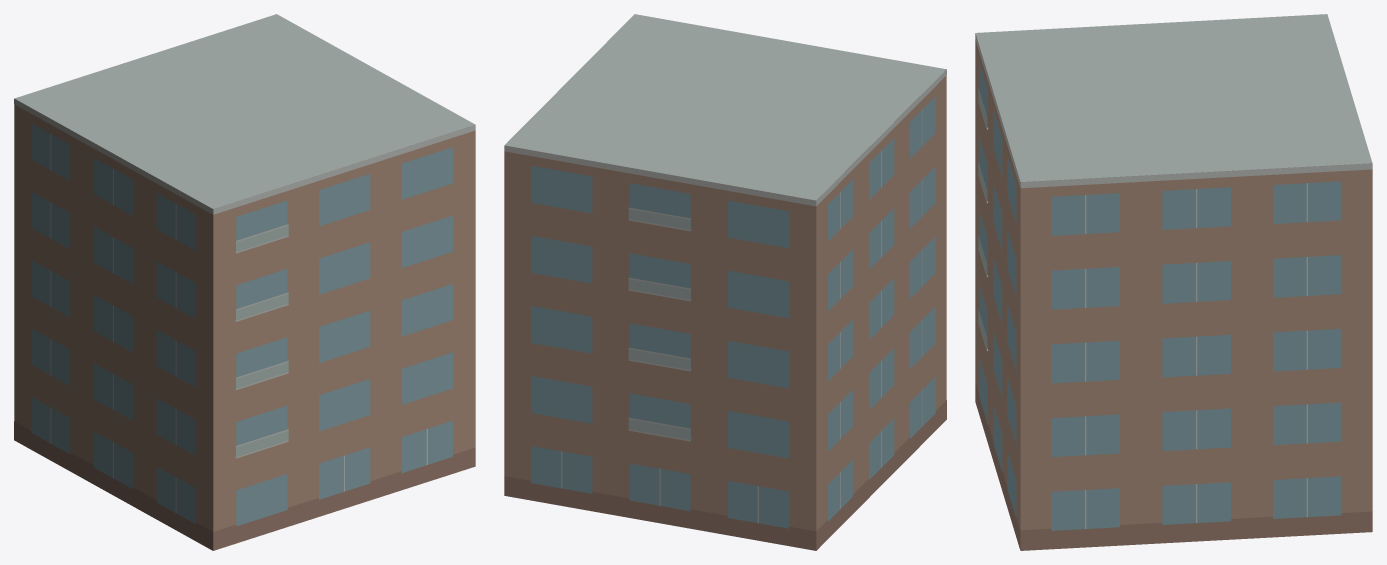
File: survey-upis-32890836.glb
The picture shows the model from 3 angles, left to right: view 1: azimuth 30°, elevation 25°; view 2: azimuth 150°, elevation 25°; view 3: azimuth 270°, elevation 25°; orthographic projection. The views are drawn at different scales.
Visible parts, largest first — view 1: survey-upis-32890836.tmp; view 2: survey-upis-32890836.tmp; view 3: survey-upis-32890836.tmp.
Boxes of the visible parts, x1,y1,x2,y2 form: survey-upis-32890836.tmp: (14,14,475,550); survey-upis-32890836.tmp: (504,14,946,550); survey-upis-32890836.tmp: (975,14,1372,550).
Bounding box in the file's own units: 14.24 × 14.55 × 14.21.
